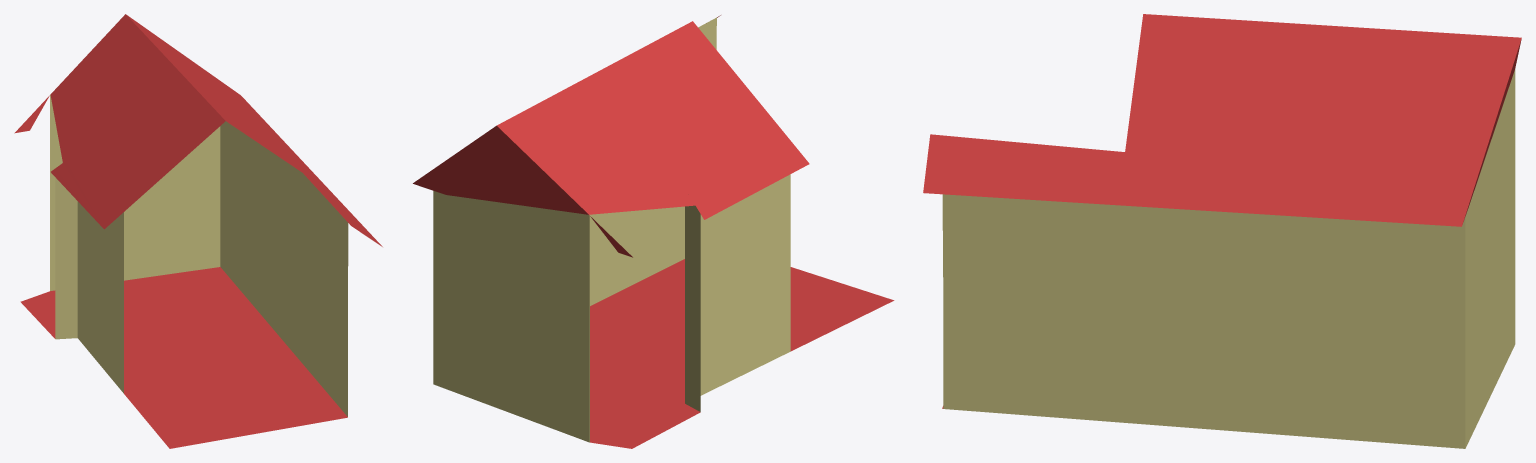
3 renders of one model, left to right at view 1: azimuth 30°, elevation 25°; view 2: azimuth 150°, elevation 25°; view 3: azimuth 270°, elevation 25°, orthographic. The views are drawn at different scales.
Bounding box in the file's own units: 14.31 × 21.67 × 14.38.
